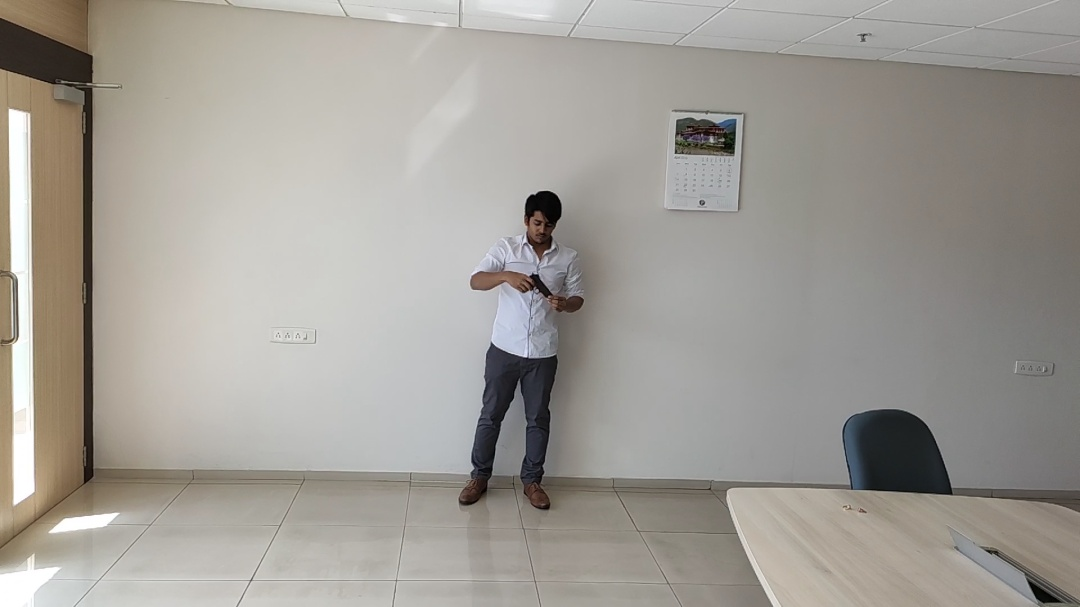gun: (307, 87, 689, 541)
